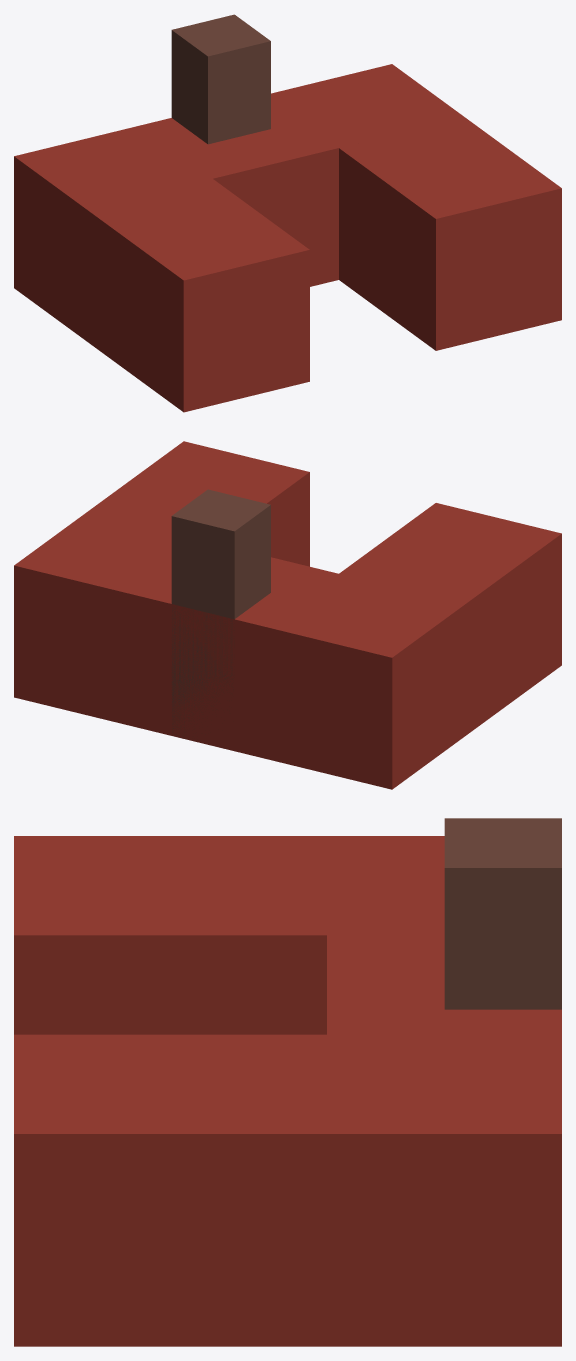
Rendered from school_01.glb.
3 renders of one model, top to bottom at view 1: azimuth 30°, elevation 25°; view 2: azimuth 150°, elevation 25°; view 3: azimuth 270°, elevation 25°, orthographic. The views are drawn at different scales.
Bounding box in the file's own units: 36 × 20 × 28.
